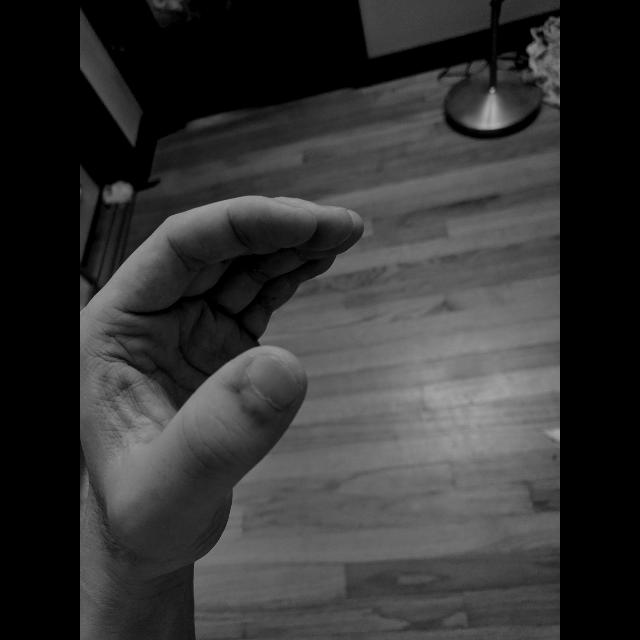C: (80, 190, 368, 578)
